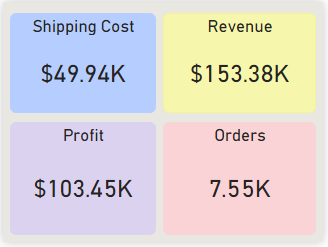

What the dashboard file says about the page in this screenshot:
{"tool":"powerbi","page":{"name":"Tooltip","canvas":[320,240],"ordinal":5},"visuals":[{"type":"card","title":"Shipping Cost","fields":{"Values":["Dax.Total Shipping Cost"]},"box":[7,11,146,100],"z":0},{"type":"card","title":"Revenue","fields":{"Values":["Dax.Total Revenue"]},"box":[160,11,153,100],"z":1000},{"type":"card","title":" Profit","fields":{"Values":["Dax.Net Profit"]},"box":[7,120,146,113],"z":2000},{"type":"card","title":"Orders","fields":{"Values":["Dax.No . Orders"]},"box":[160,120,153,113],"z":3000}]}

Visuals, with their boxes in screenshot pixels (x1, y1, x2, y2), scaled from the page's 320x240 canvas onto the 328x247 screenshot:
"Shipping Cost" card: locate(7, 11, 157, 114)
"Revenue" card: locate(164, 11, 321, 114)
" Profit" card: locate(7, 123, 157, 240)
"Orders" card: locate(164, 123, 321, 240)
